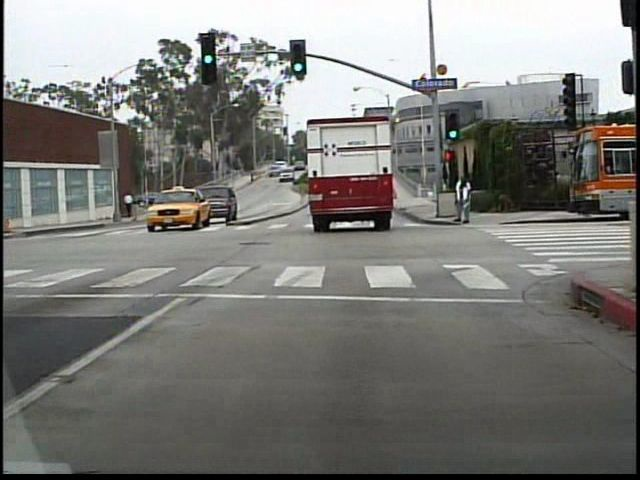person: (449, 174, 474, 228), (122, 188, 139, 220)
